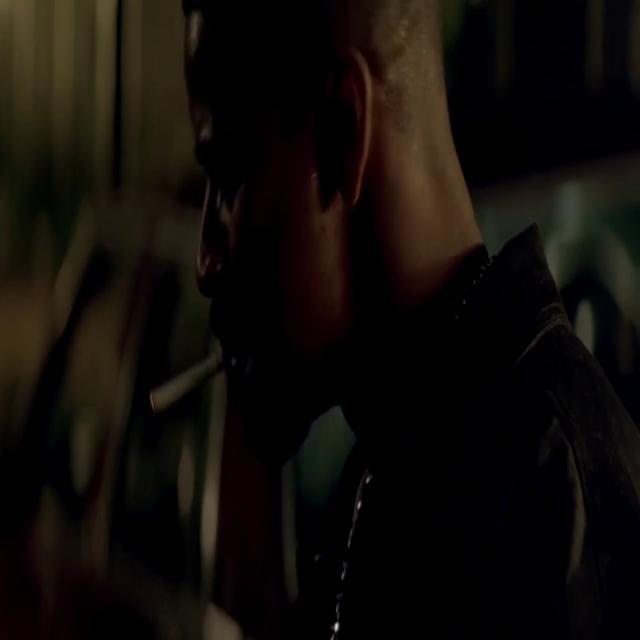Smooking: (143, 336, 235, 441)
